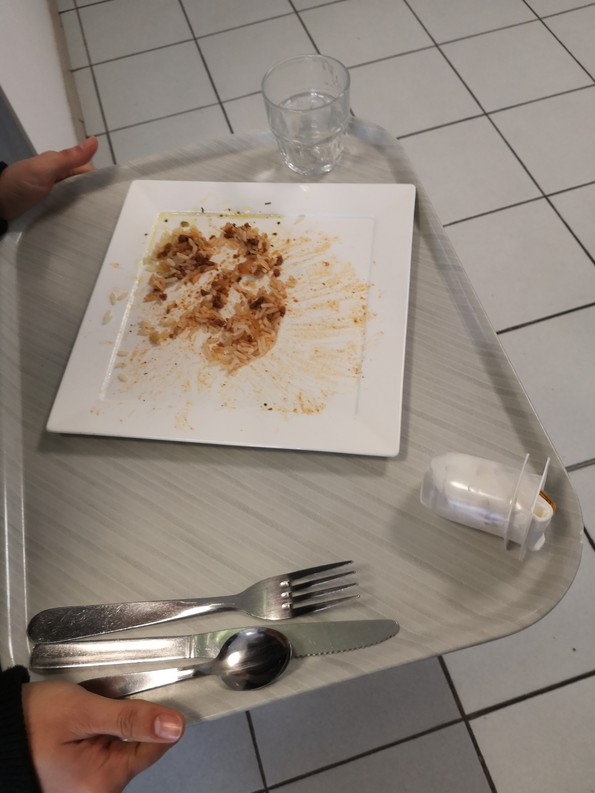cup: (243, 57, 392, 183)
cutlery: (12, 549, 400, 704)
orga: (154, 211, 296, 381)
trash: (416, 441, 577, 563)
